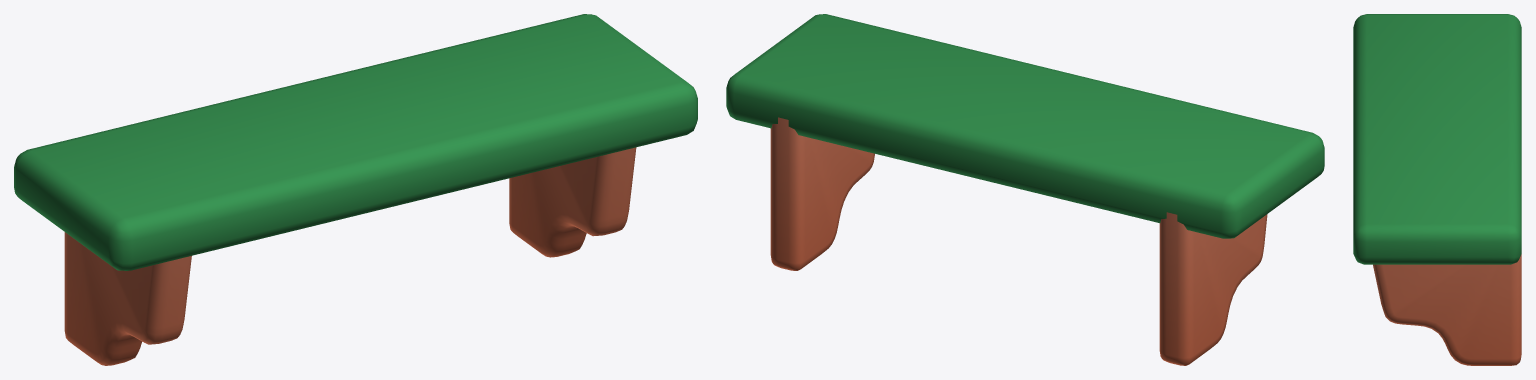
File: Shelf_04.glb
3 renders of one model, left to right at view 1: azimuth 30°, elevation 25°; view 2: azimuth 150°, elevation 25°; view 3: azimuth 270°, elevation 25°, orthographic. The views are drawn at different scales.
Visible parts, largest first — view 1: Shelf_04; view 2: Shelf_04; view 3: Shelf_04.
Part boxes in pixels (box(x1,y1,x2,y2)): Shelf_04: box(14, 14, 697, 365); Shelf_04: box(726, 14, 1324, 365); Shelf_04: box(1353, 14, 1521, 365).
Bounding box in the file's own units: 0.96 × 0.323 × 0.31.
Materials: 1 (1 with a texture image).
